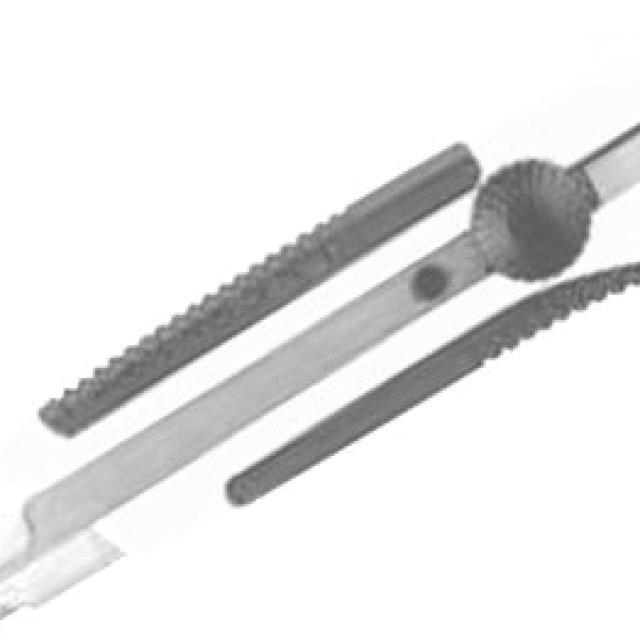estilete: (0, 77, 640, 620)
